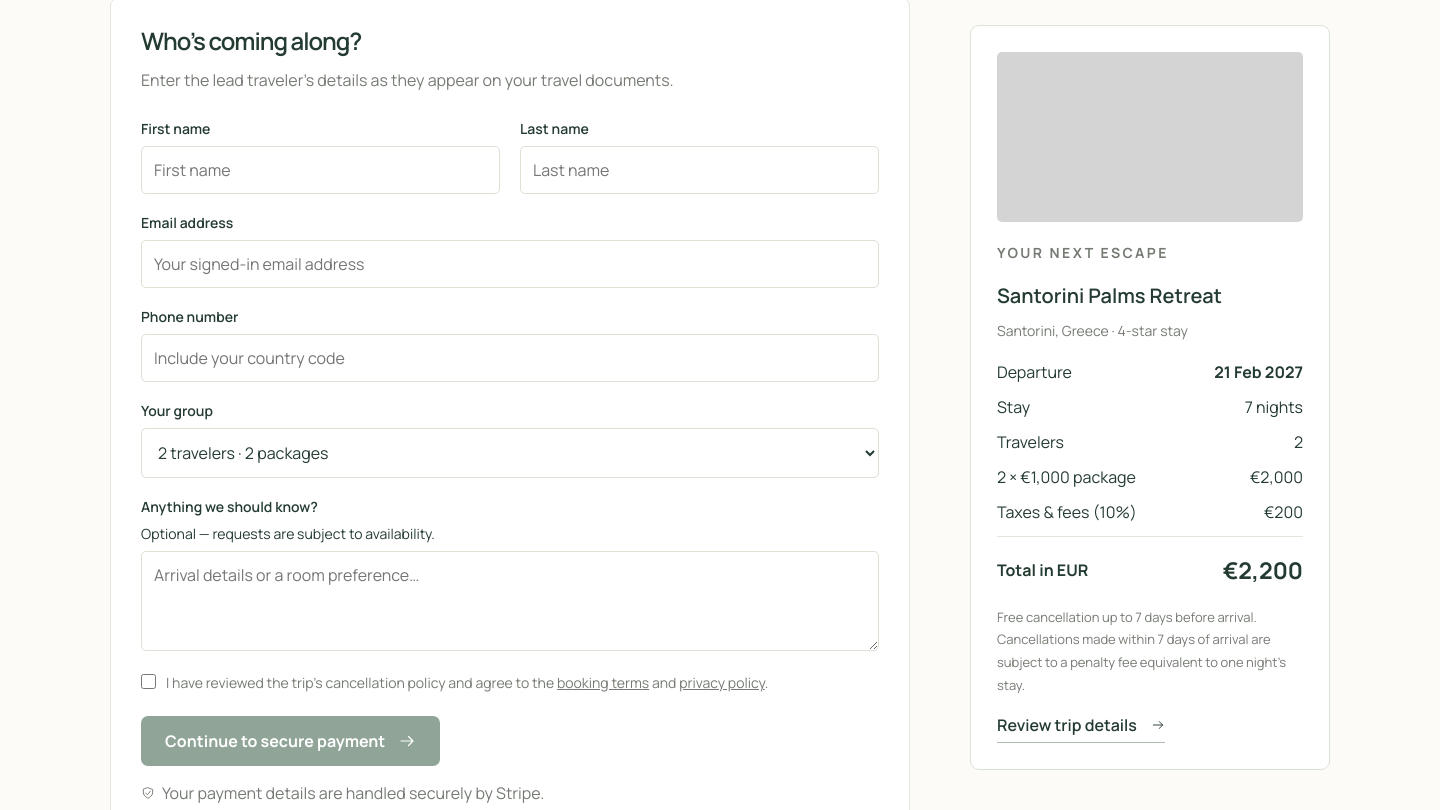
checkout shows consistent group pricing and setup state
This screenshot has width=1440, height=810.
(page scrolled)
Expected: the text "€2,200" is shown, [1223, 554, 1303, 586]
Expected: the button "Continue to secure payment" is disabled, [141, 716, 440, 766]
Select "3 travelers · 3 packages" in the dropdown labelled "Your group": (510, 453) [141, 428, 879, 478]
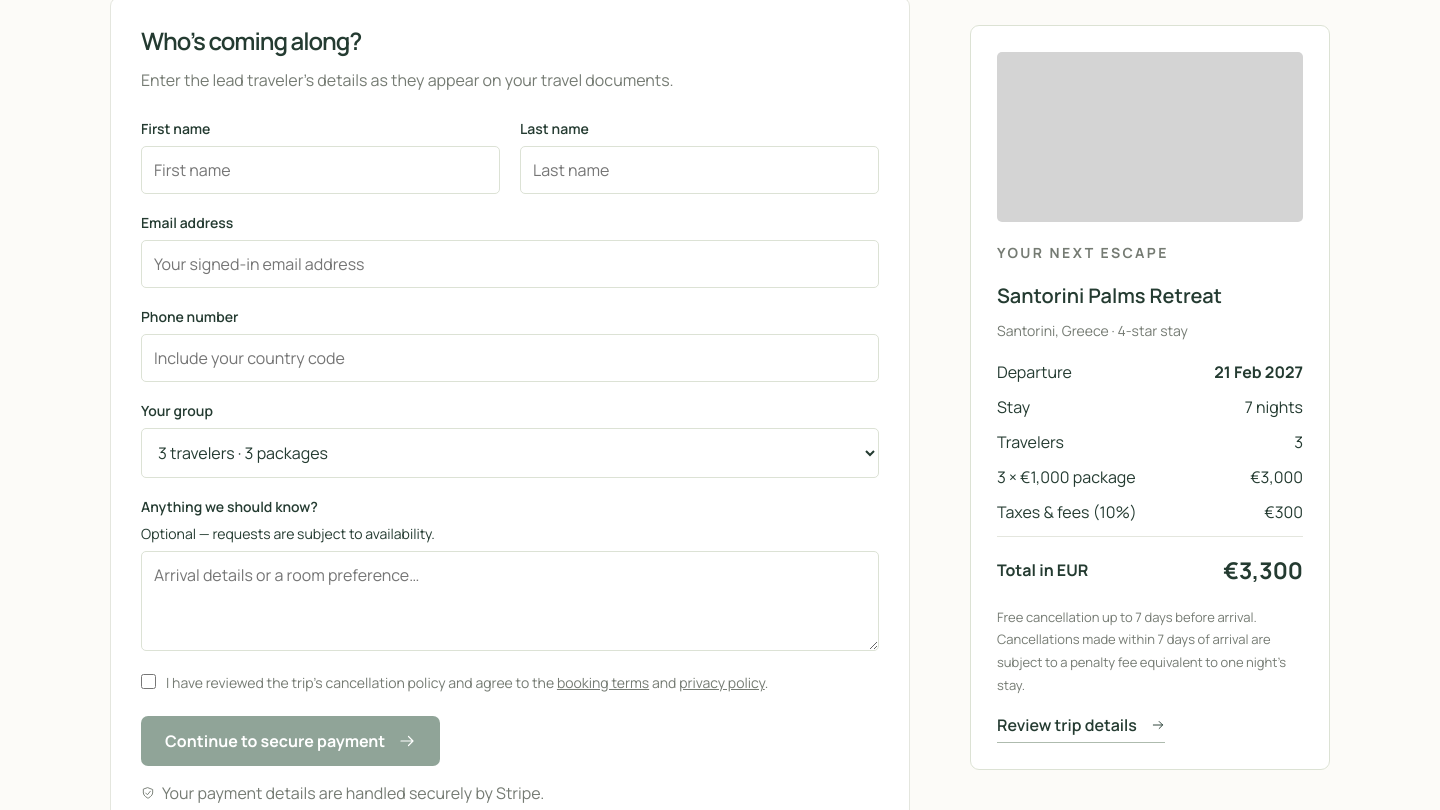
Expected: the text "€3,300" is shown, [1223, 554, 1303, 586]
